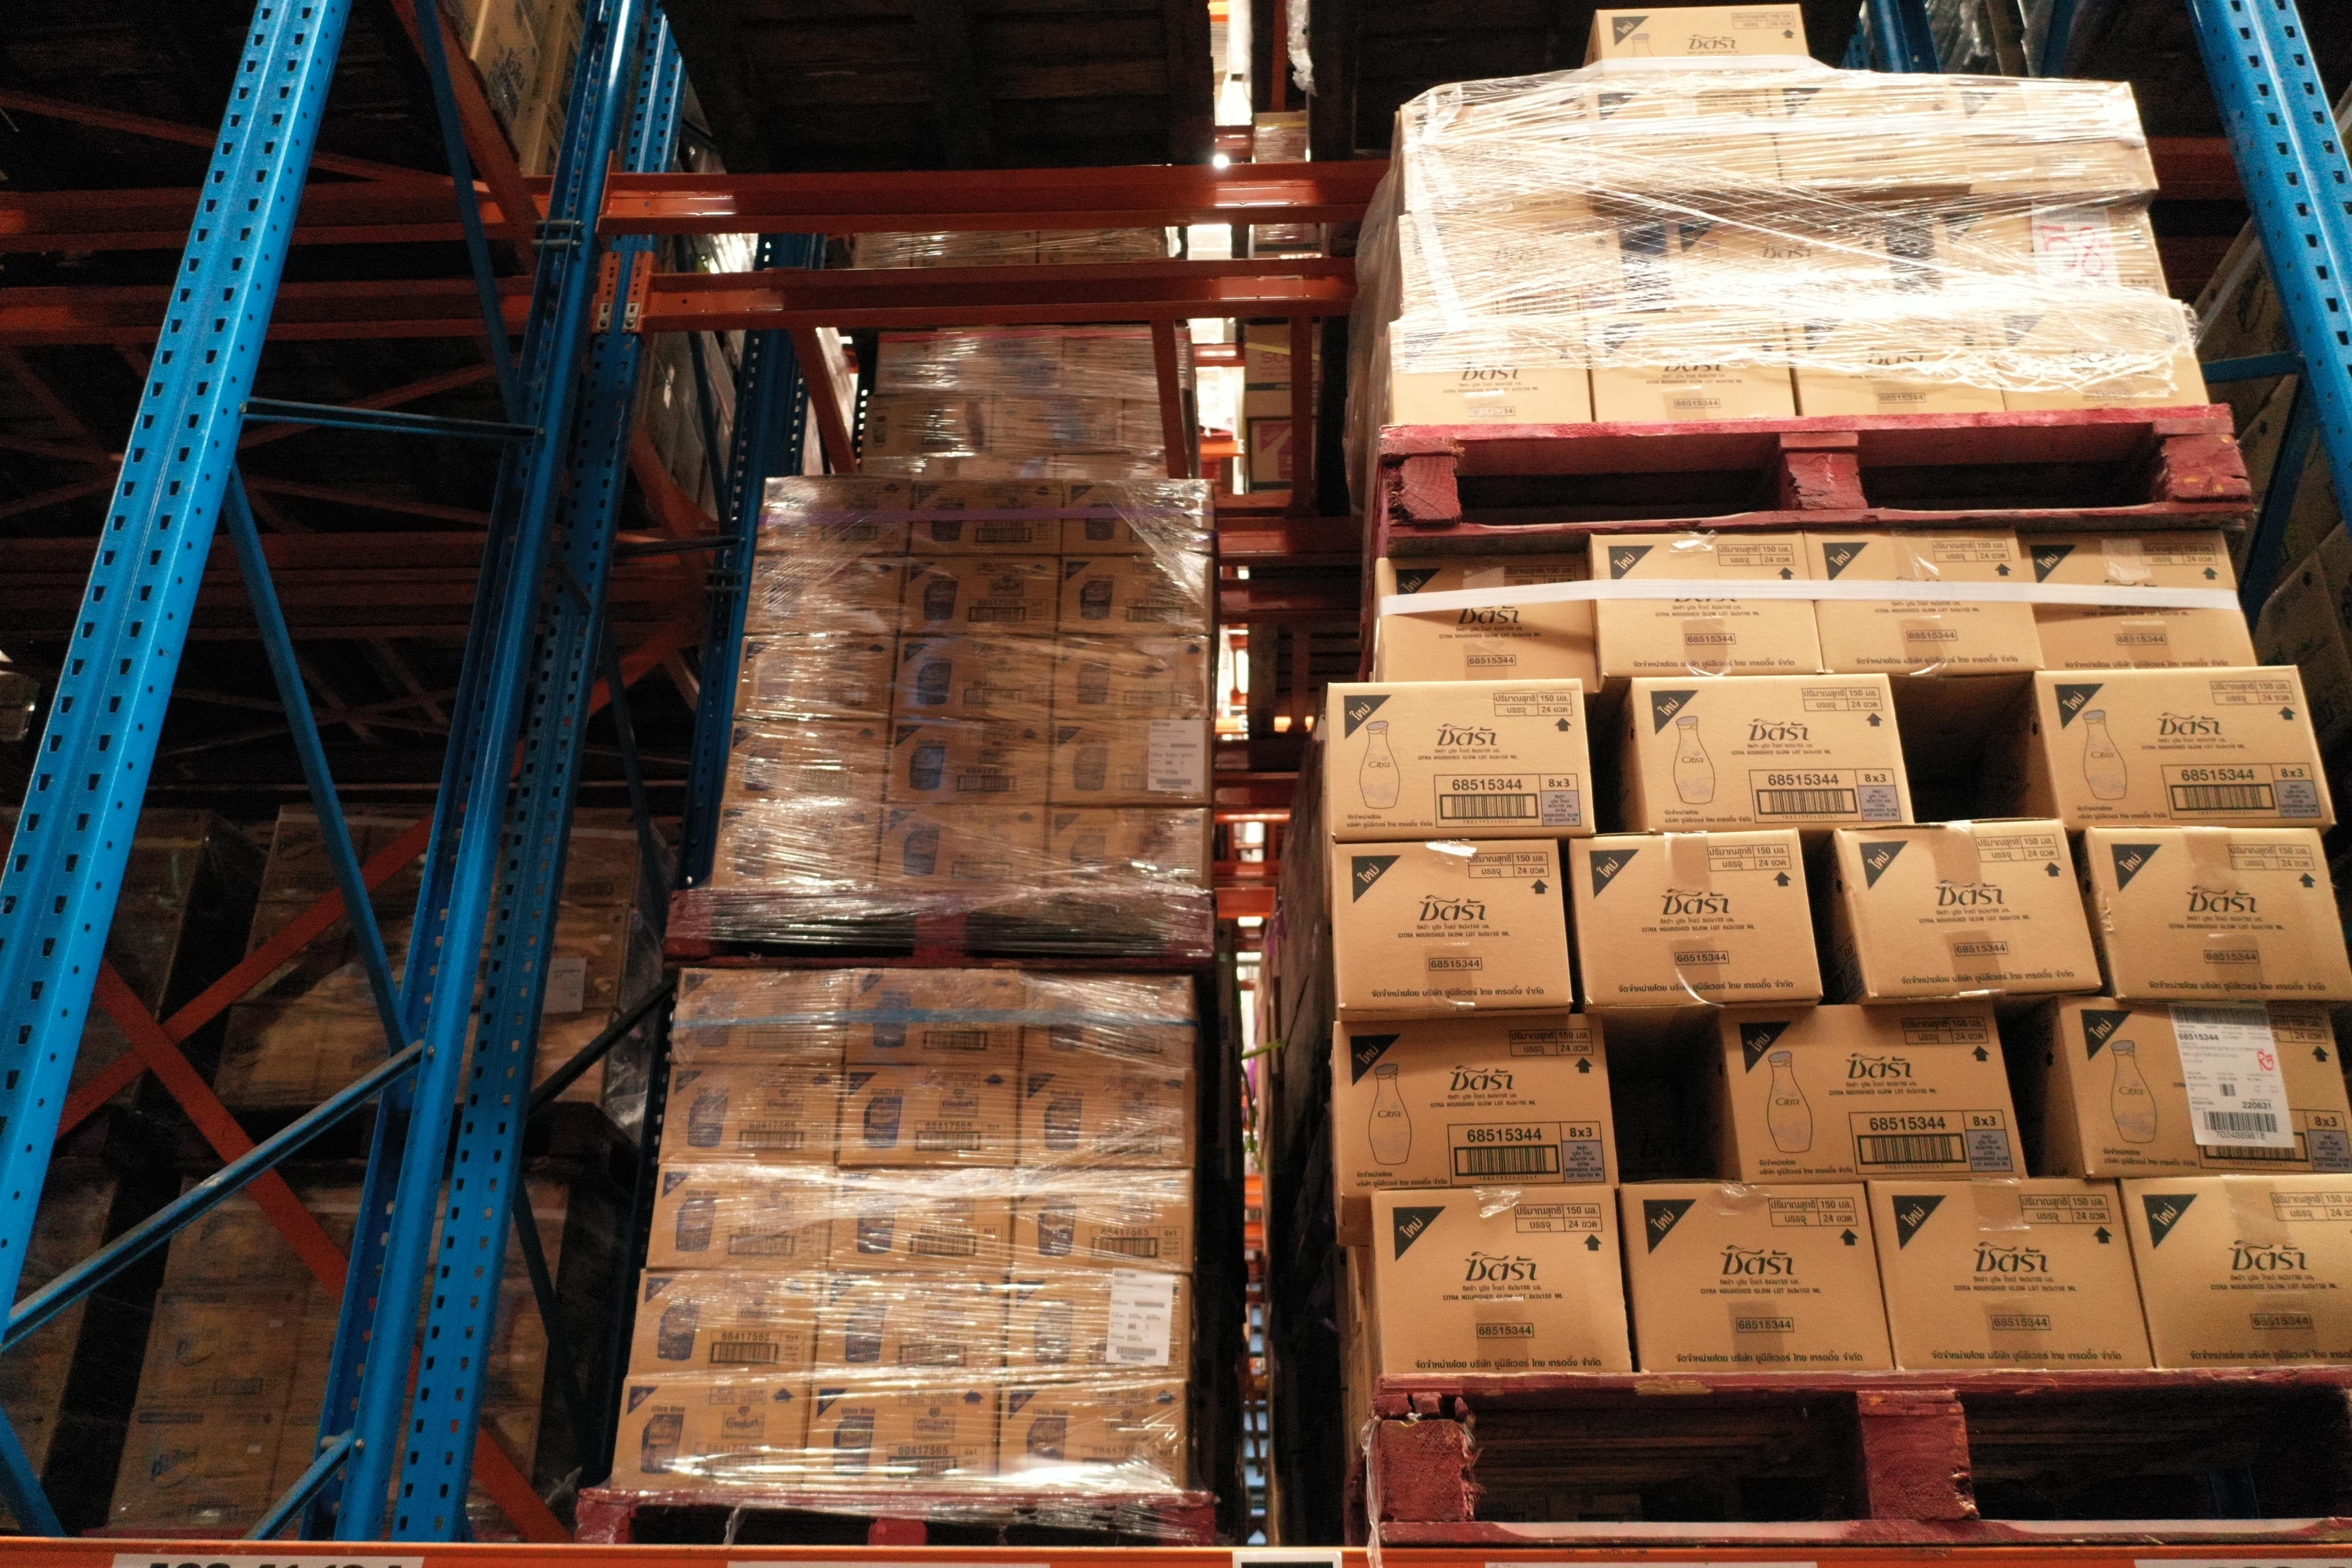-: (1717, 996, 2028, 1186), (1865, 1176, 2159, 1374), (1330, 1008, 1622, 1197), (1619, 1179, 1897, 1374), (2056, 996, 2352, 1176), (1829, 812, 2107, 1001), (1374, 1181, 1638, 1377), (2032, 661, 2340, 829), (1627, 670, 1920, 836), (2123, 1167, 2352, 1372), (2084, 826, 2352, 999), (1323, 675, 1596, 840), (1571, 828, 1825, 1004), (1330, 836, 1571, 1011), (1801, 520, 2051, 677), (2019, 521, 2259, 677), (1589, 527, 1825, 681), (1368, 546, 1599, 691), (1984, 292, 2214, 416), (1661, 194, 1902, 310), (1783, 296, 2009, 416), (1398, 201, 1629, 317), (1584, 304, 1801, 423), (1386, 308, 1594, 427), (1949, 79, 2158, 194), (1925, 198, 2168, 296), (1771, 72, 1970, 191), (1582, 82, 1781, 199), (1398, 98, 1589, 213), (1594, 2, 1818, 86)
2: (856, 392, 996, 458), (940, 322, 1062, 397), (1062, 327, 1188, 399), (990, 394, 1122, 462), (875, 322, 941, 395), (1120, 397, 1185, 462)
box: (798, 1368, 1004, 1501), (605, 1368, 812, 1500), (996, 1379, 1186, 1500), (640, 1162, 840, 1276), (1008, 1165, 1193, 1283), (826, 1167, 1018, 1279), (625, 1265, 822, 1374), (1004, 1272, 1195, 1384), (808, 1272, 1011, 1375), (842, 962, 1027, 1067), (658, 1062, 840, 1169), (836, 1062, 1018, 1169), (1015, 1066, 1193, 1171), (873, 798, 1048, 903), (670, 968, 854, 1064), (710, 801, 884, 898), (1020, 969, 1188, 1067), (1039, 801, 1207, 898), (723, 714, 892, 807), (887, 632, 1055, 724), (882, 717, 1053, 807), (731, 632, 898, 723), (1053, 630, 1213, 724), (1048, 717, 1207, 808), (896, 553, 1062, 639), (896, 474, 1064, 556), (744, 555, 908, 637), (1055, 549, 1209, 637), (759, 472, 917, 556), (1062, 472, 1213, 558)
